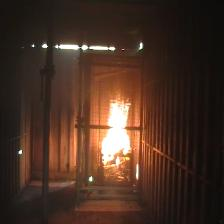fire: (102, 91, 132, 165)
